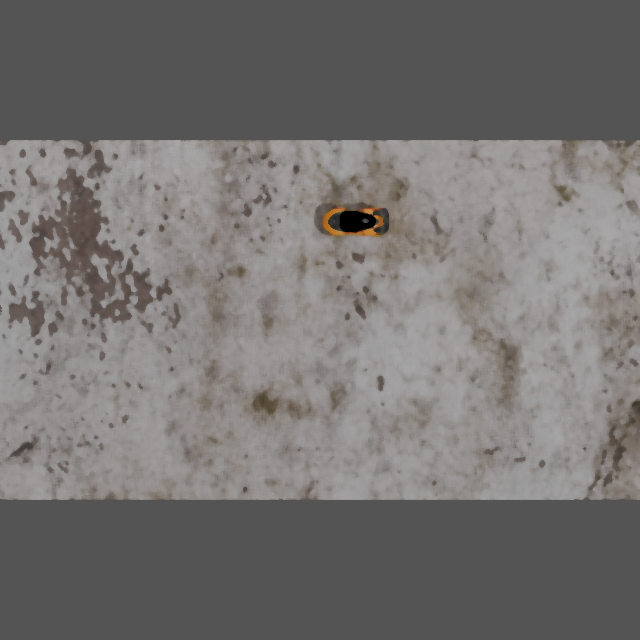car: (321, 205, 389, 238)
